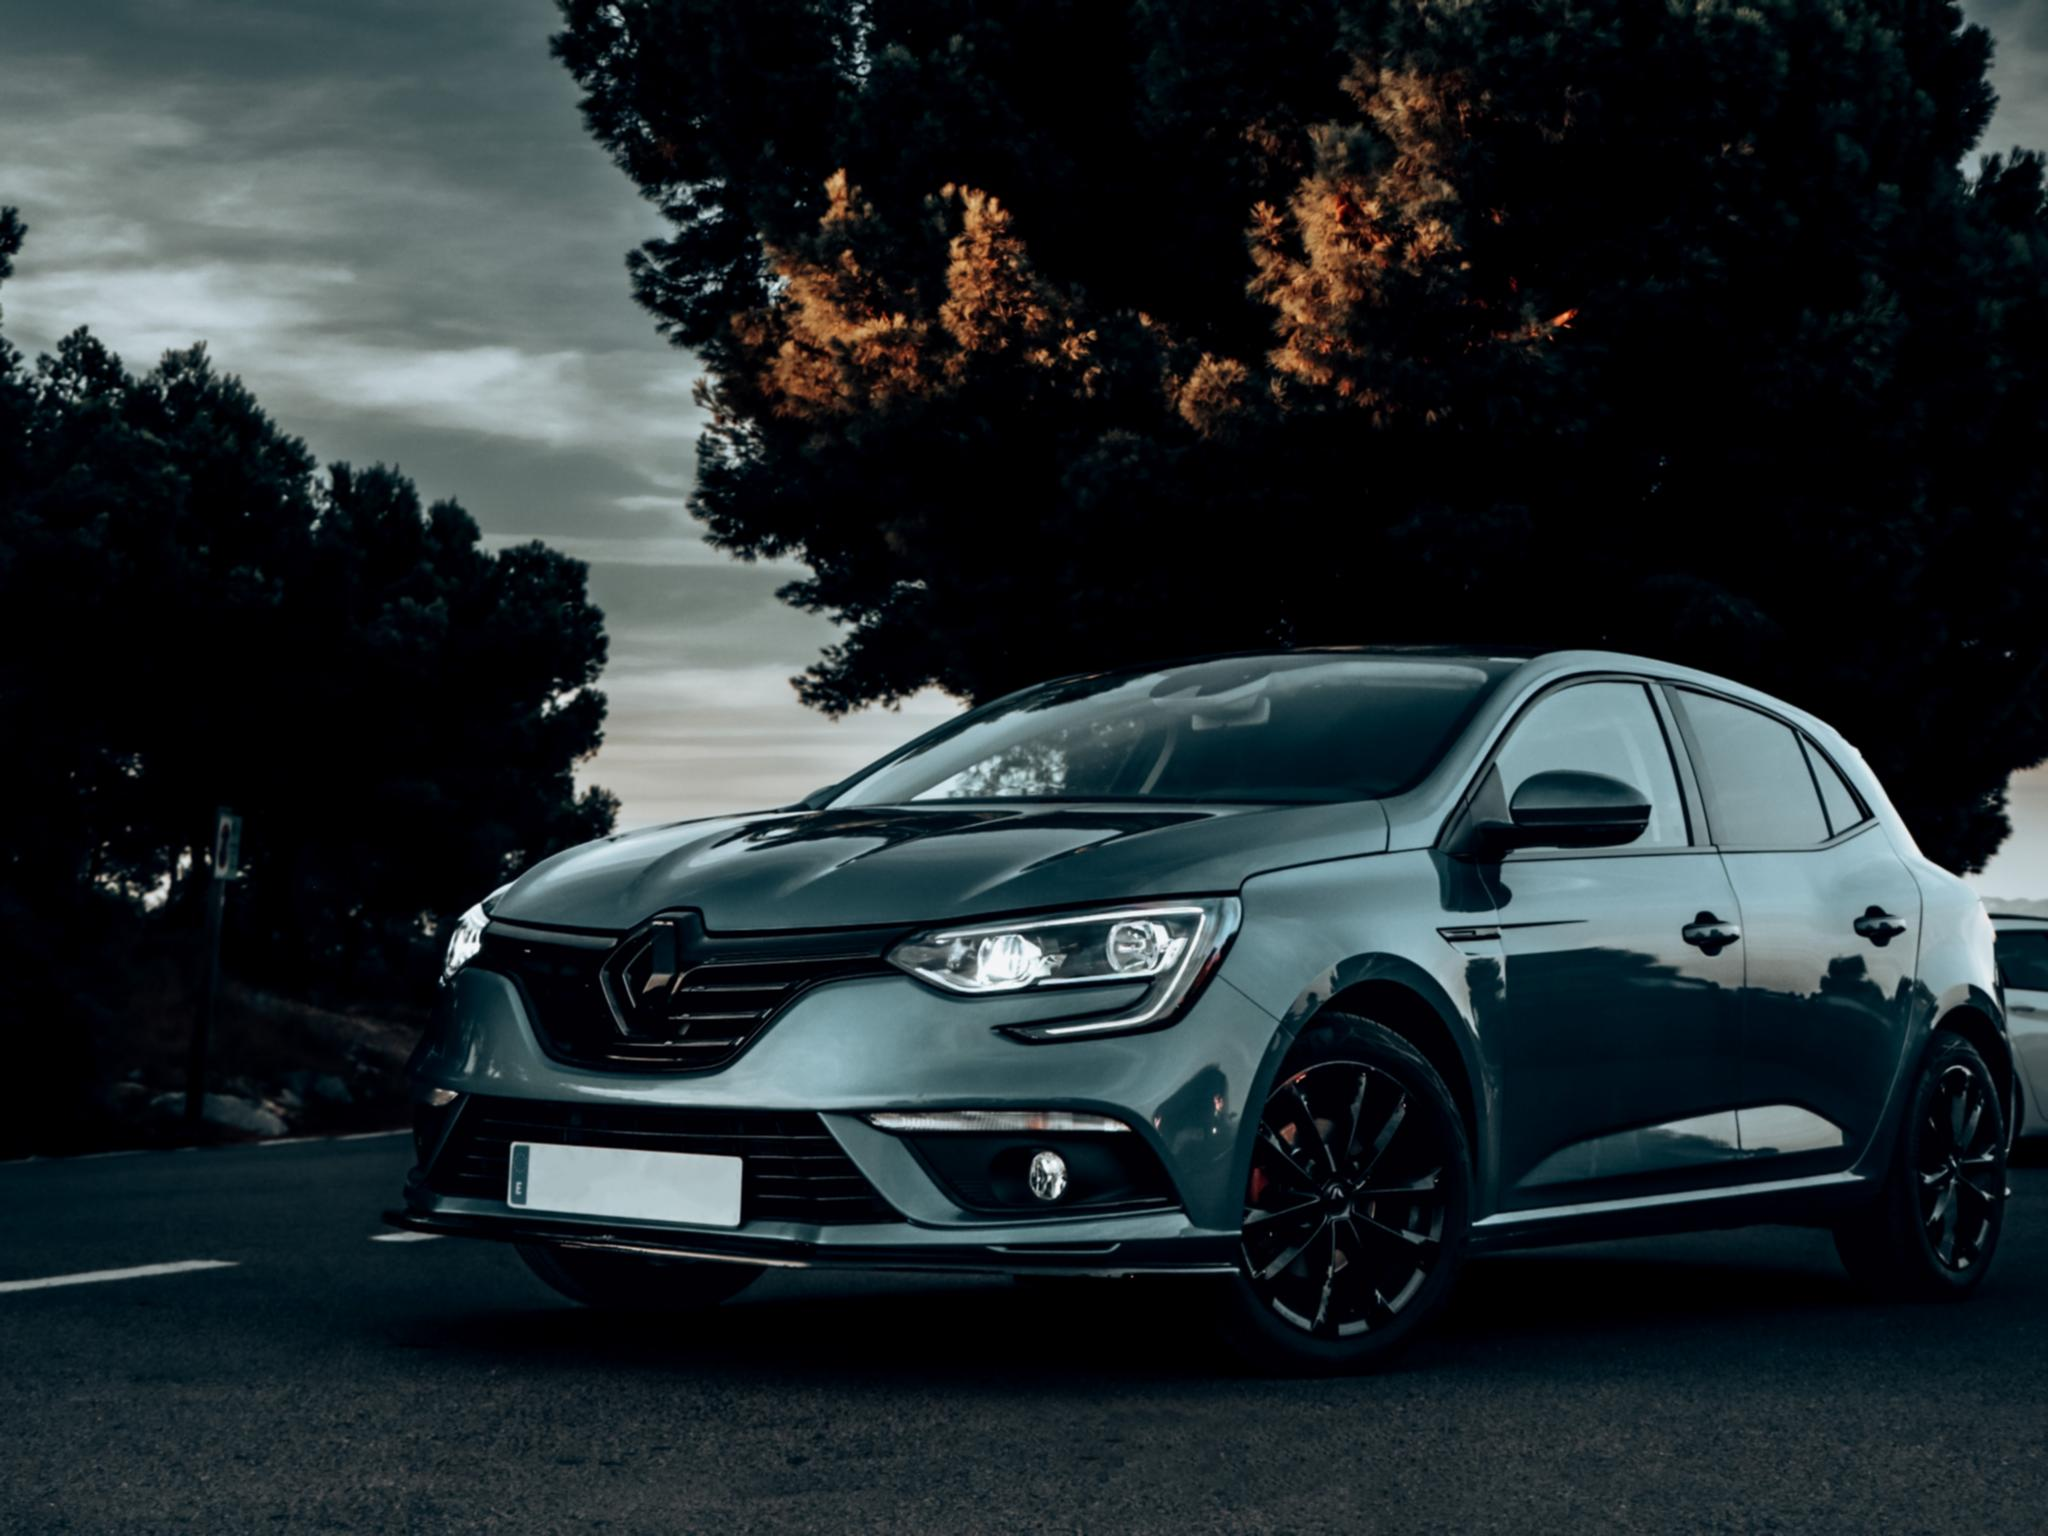Renault: (592, 907, 724, 1049)
